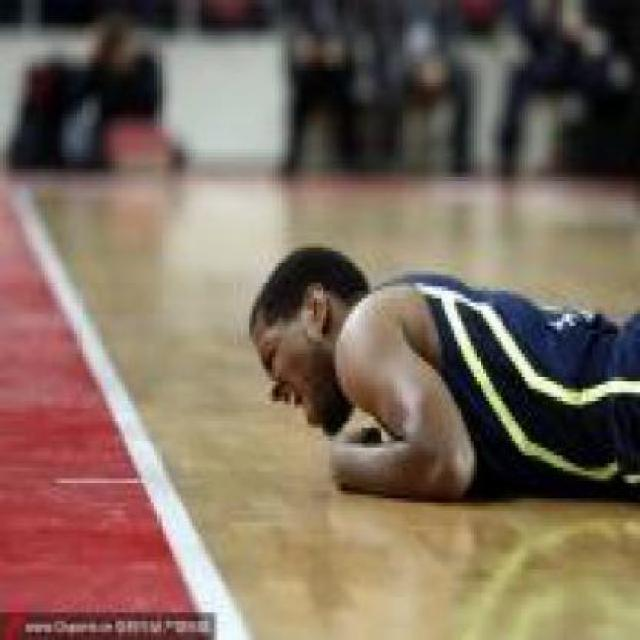fall: (230, 184, 624, 522)
